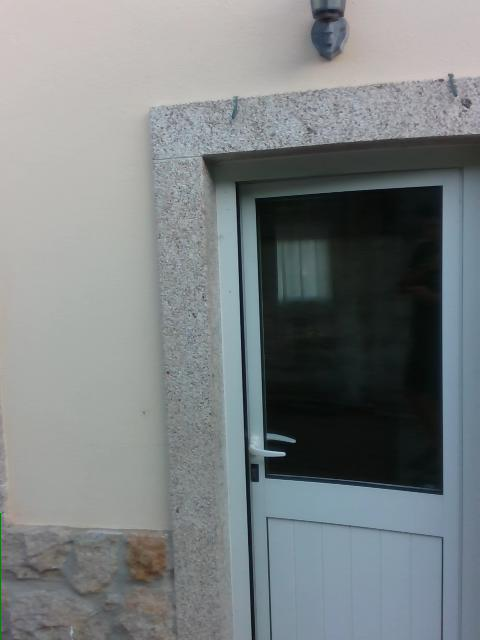door: (205, 134, 479, 639)
